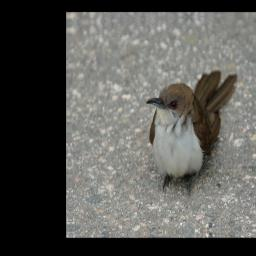Cuckoo: (144, 68, 240, 200)
